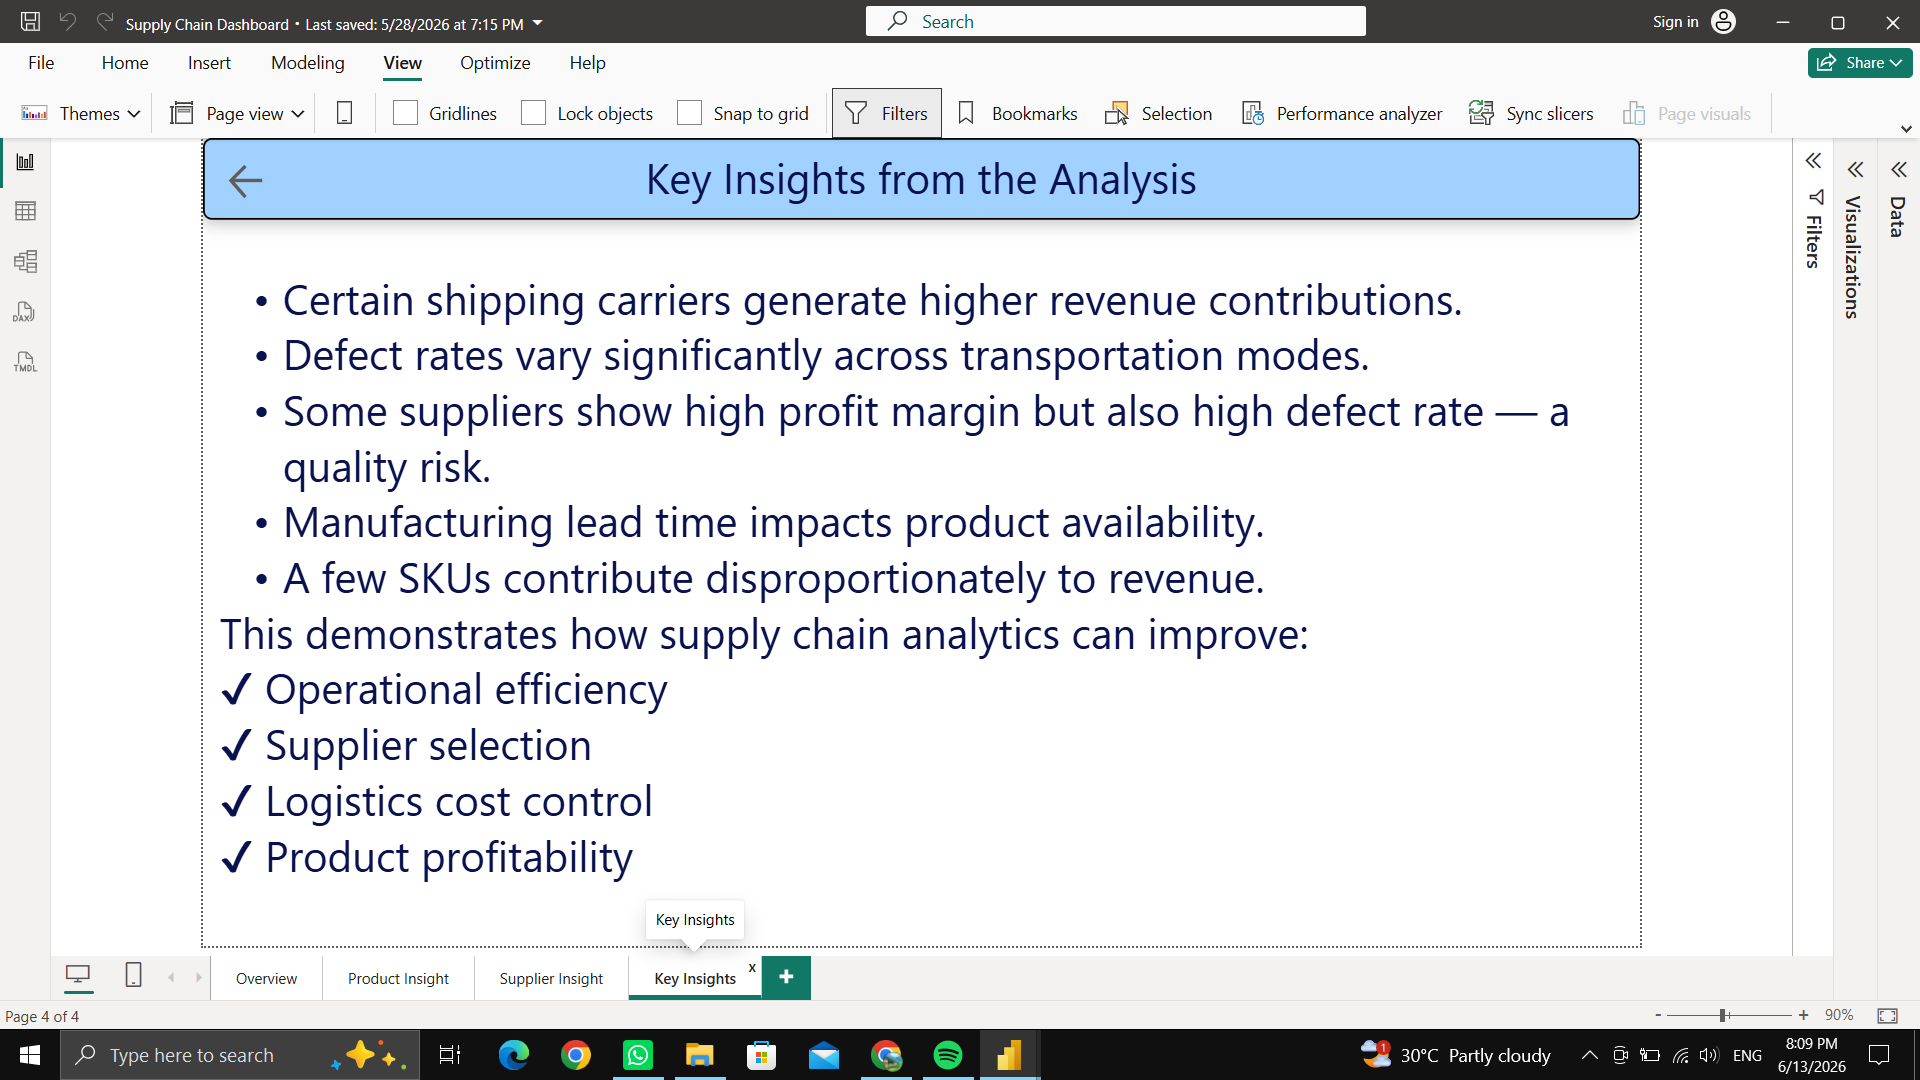

What the dashboard file says about the page in this screenshot:
{"tool":"powerbi","page":{"name":"Key Insights","canvas":[1280,720],"ordinal":3},"visuals":[{"type":"textbox","box":[9.6,112.5,1270.7,607.9],"z":0},{"type":"textbox","box":[0,0,1280.3,72.7],"z":1000},{"type":"actionButton","box":[19.2,19.2,100.2,39.8],"z":2000}]}

Visuals, with their boxes on the page's 1280x720 design canvas (x1, y1, x2, y2). These are canvas units, not pixel positions in the 1920x1080 screenshot, which may show the page scaled, cropped or inside an application window:
textbox: (x1=10, y1=112, x2=1280, y2=720)
textbox: (x1=0, y1=0, x2=1280, y2=73)
actionButton: (x1=19, y1=19, x2=119, y2=59)
